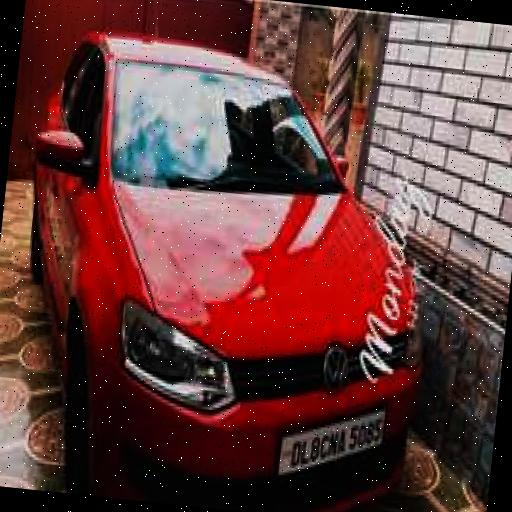license_plate`: (275, 393, 384, 482)
